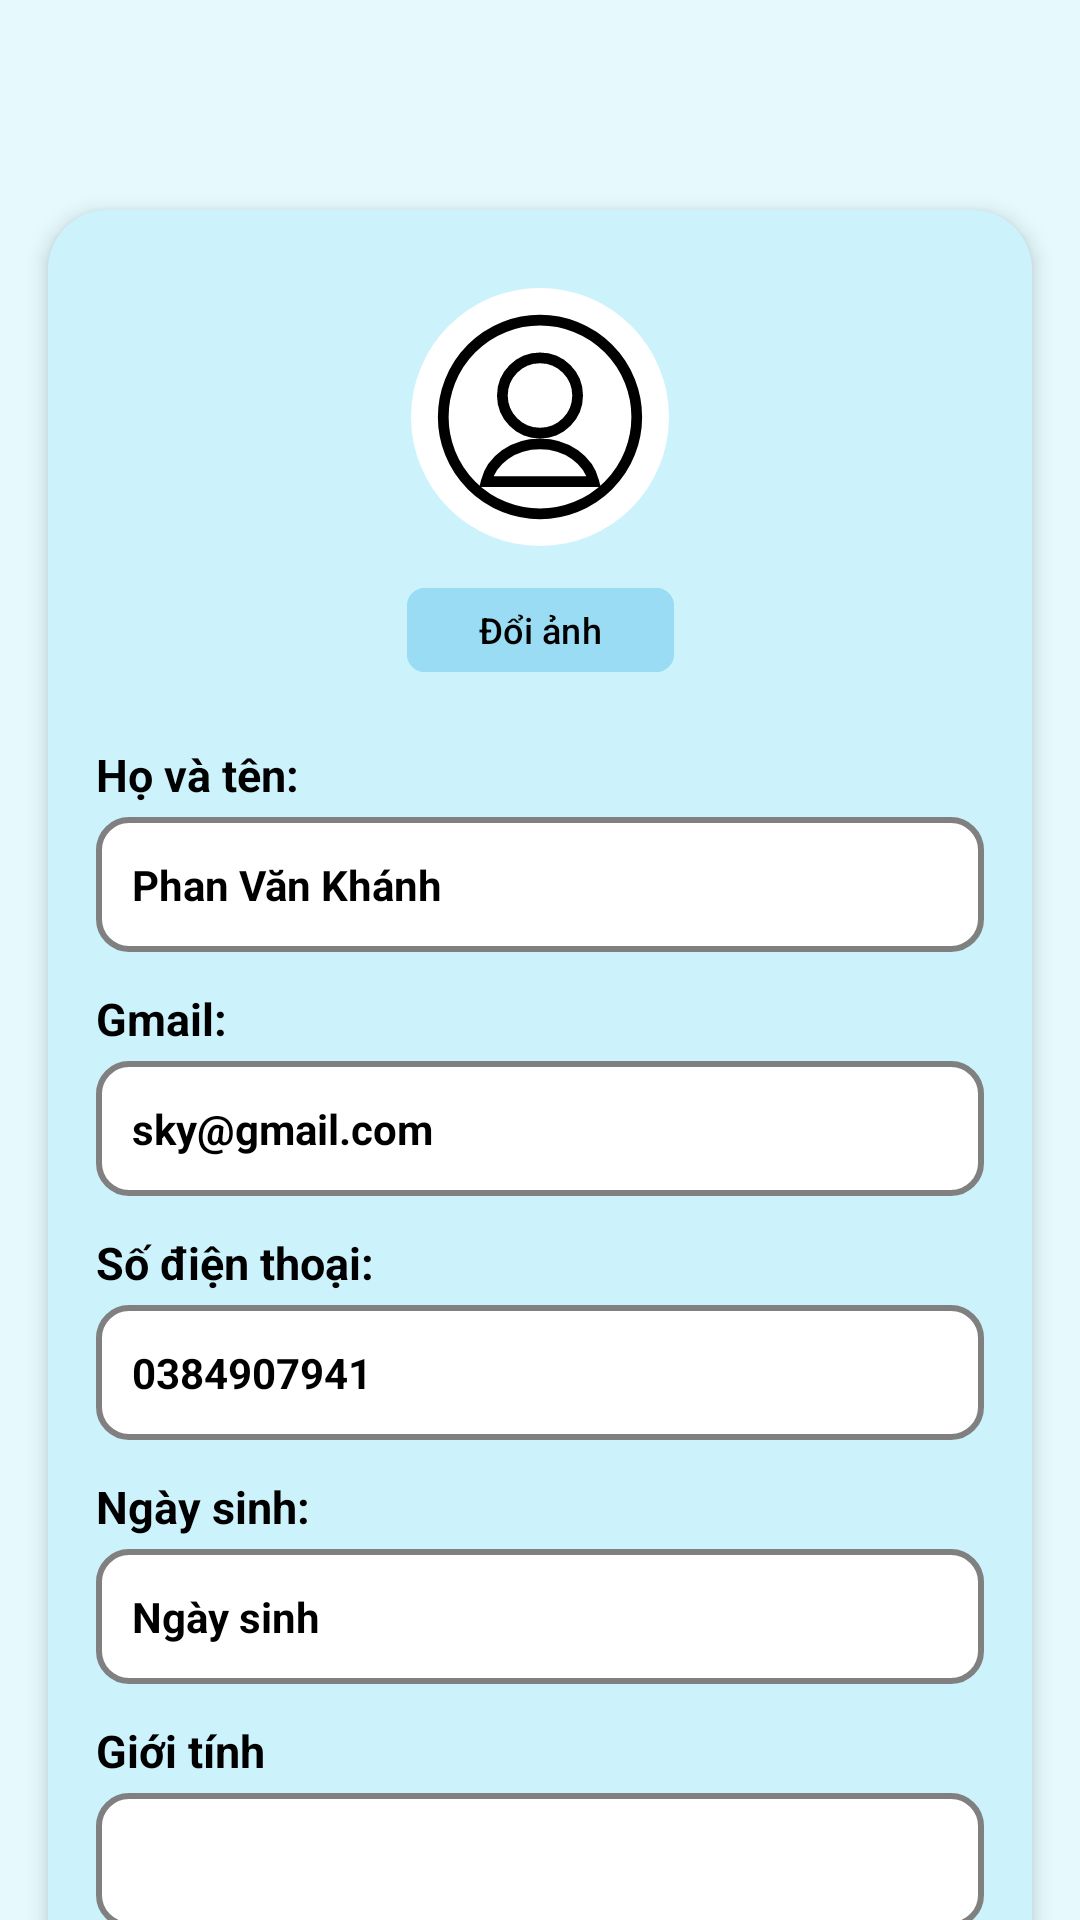

Where to tap for icons on this 1080 × 1920 app screen, as [x,y]:
nguoi dung: [540,417]
